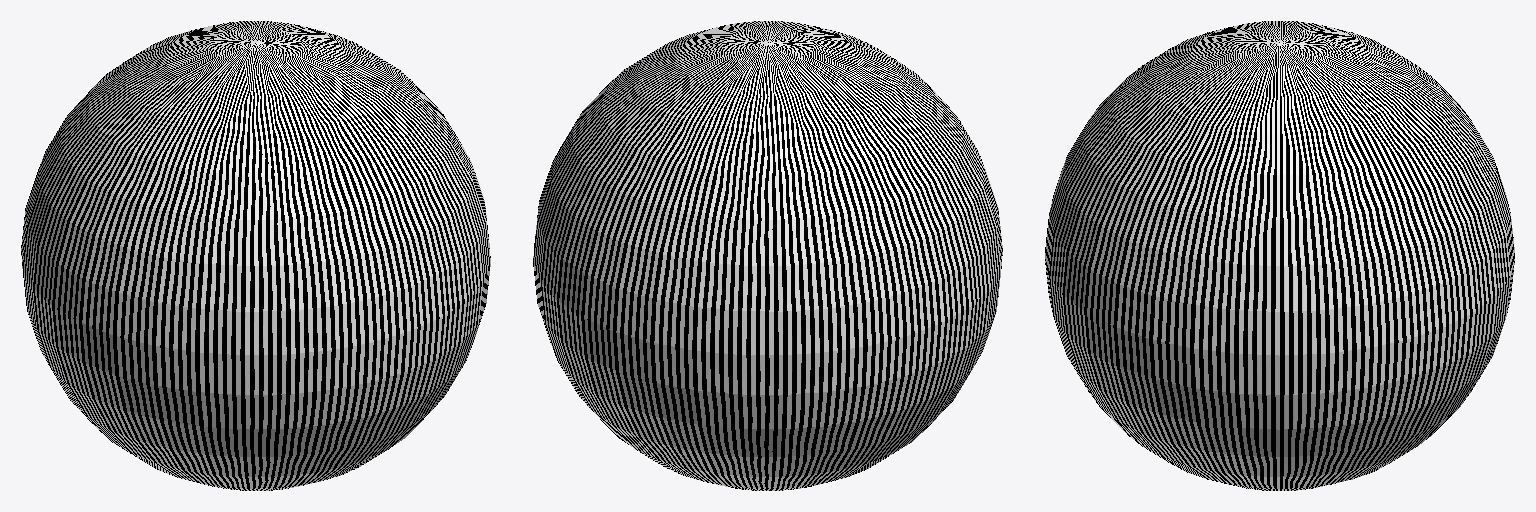
The picture shows the model from 3 angles: view 1: azimuth 30°, elevation 25°; view 2: azimuth 150°, elevation 25°; view 3: azimuth 270°, elevation 25°; orthographic projection.
Parts seen in each view (by area): view 1: Sphere; view 2: Sphere; view 3: Sphere.
Boxes of the visible parts, x1=… form: Sphere: x1=21, y1=21, x2=490, y2=490; Sphere: x1=533, y1=21, x2=1002, y2=490; Sphere: x1=1045, y1=21, x2=1514, y2=490.
Size of the model in its own units: 0.6 by 0.6 by 0.6.
1 materials, 1 textured.